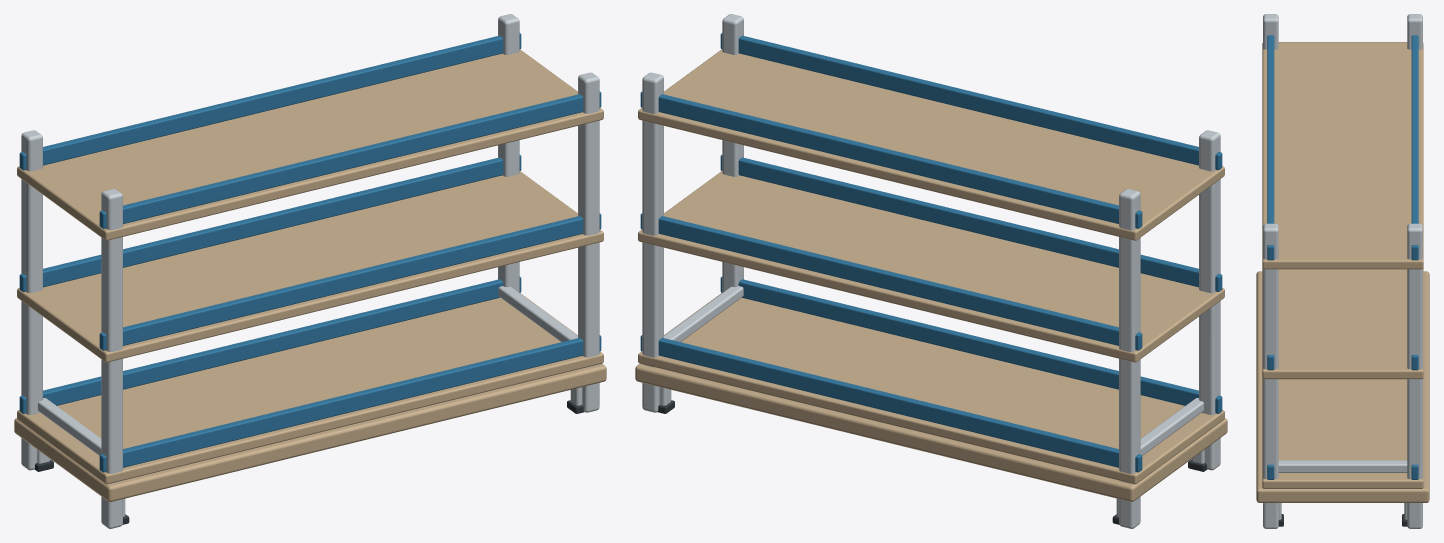
The model's file is curling-club-and-ice-maintenance-stone-storage-rack-80e4d30f__31266.glb.
3 renders of one model, left to right at view 1: azimuth 30°, elevation 25°; view 2: azimuth 150°, elevation 25°; view 3: azimuth 270°, elevation 25°, orthographic. The views are drawn at different scales.
Visible parts, largest first — view 1: stone-storage-rack; view 2: stone-storage-rack; view 3: stone-storage-rack.
Boxes of the visible parts, x1=… form: stone-storage-rack: x1=14, y1=14, x2=606, y2=528; stone-storage-rack: x1=635, y1=14, x2=1227, y2=528; stone-storage-rack: x1=1256, y1=14, x2=1429, y2=528.
Bounding box in the file's own units: 1.8 × 1.15 × 0.5999.
